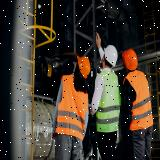Helmet: (76, 55, 90, 81), (103, 44, 118, 68), (122, 48, 138, 70)
Vest: (54, 74, 88, 140), (123, 73, 156, 128), (95, 71, 121, 133)
